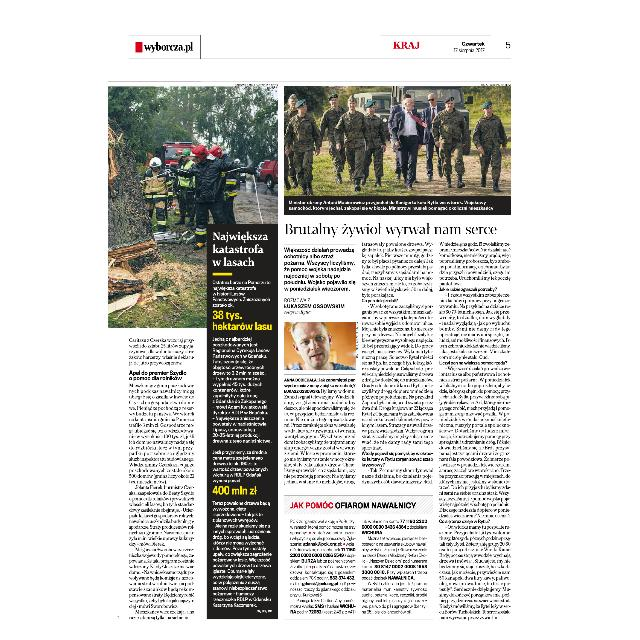article: (284, 220, 514, 622)
